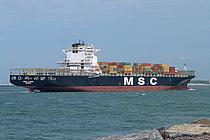Ship: (8, 39, 199, 94)
